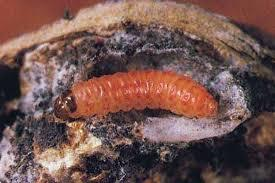insect: (52, 65, 222, 126)
